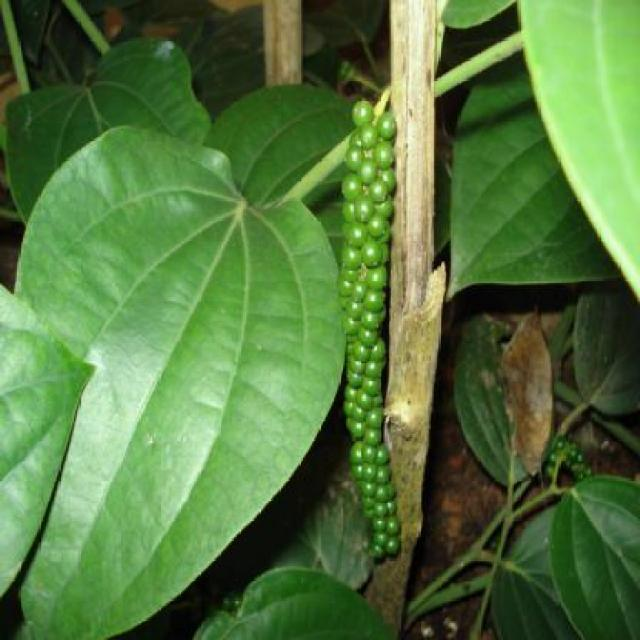UNRIPE: (342, 98, 396, 560), (550, 436, 587, 482)
